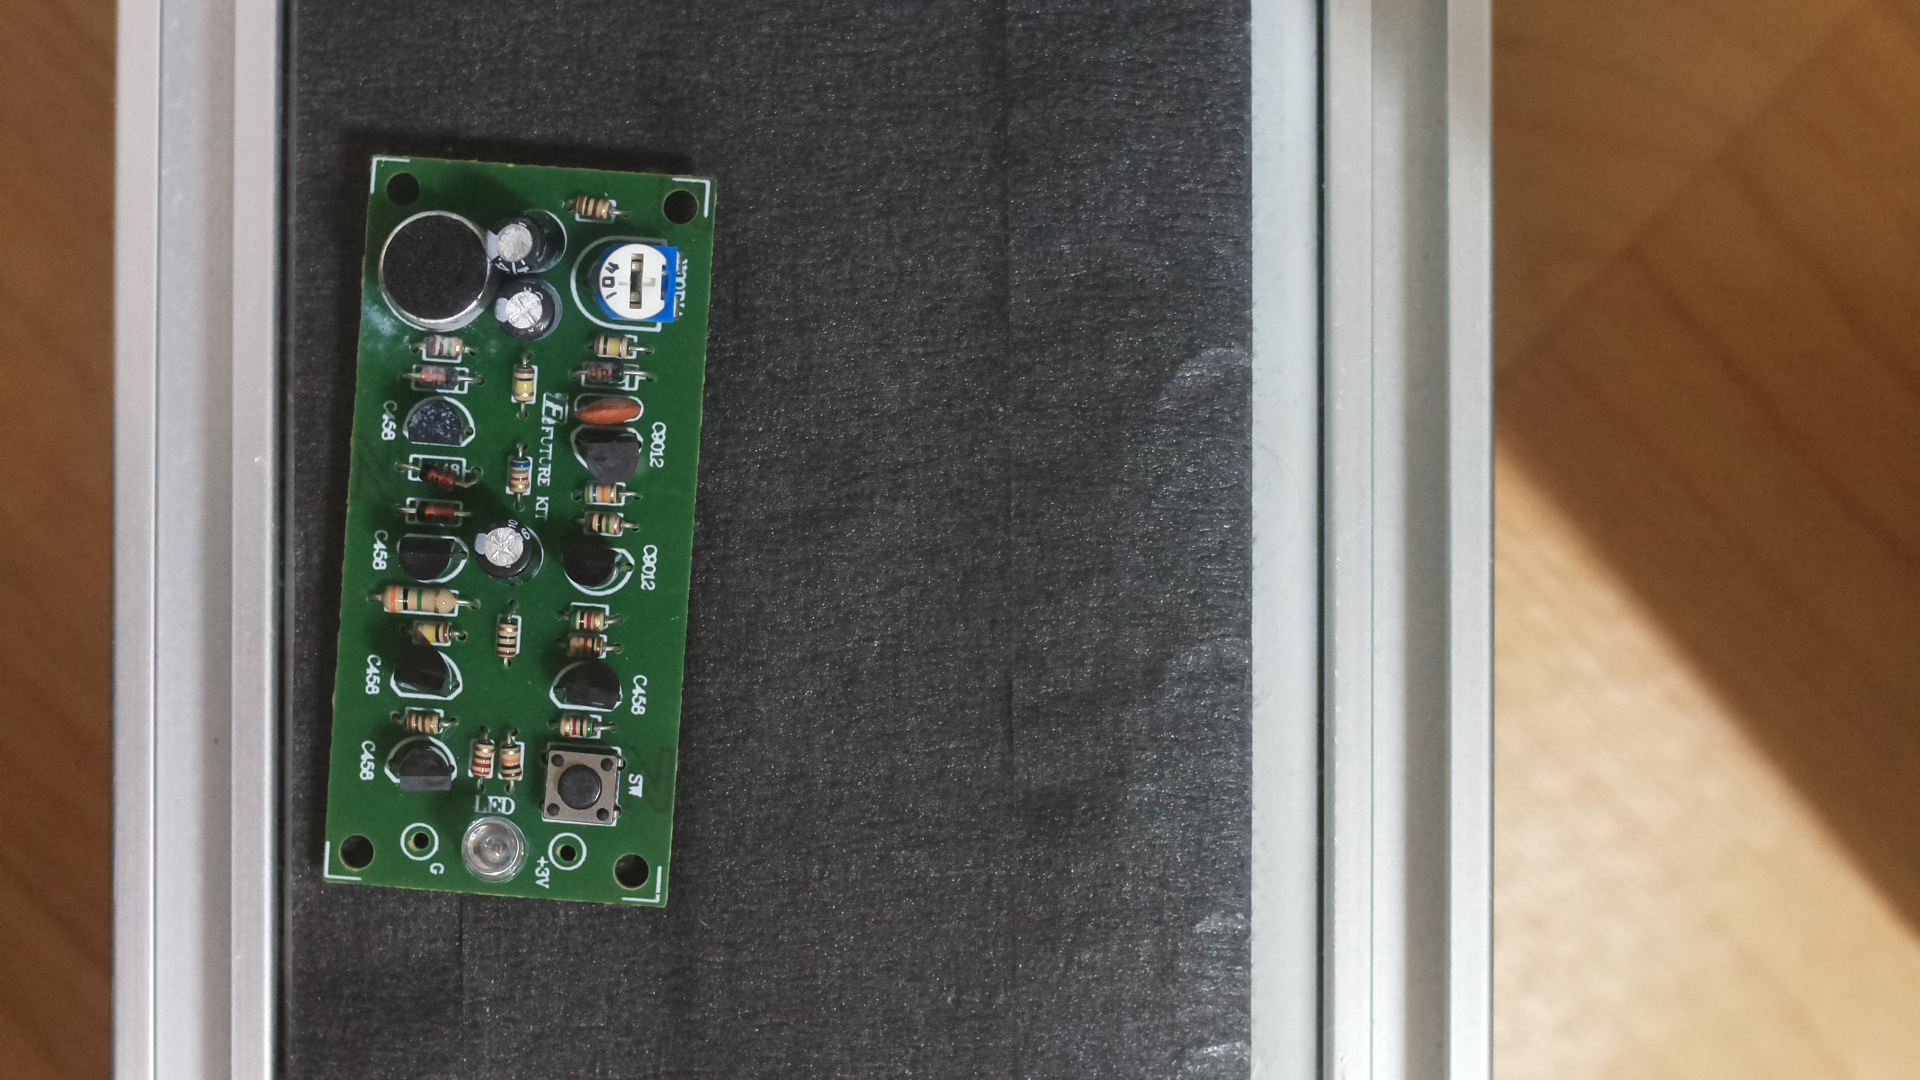A_Normal: (316, 123, 727, 935)
